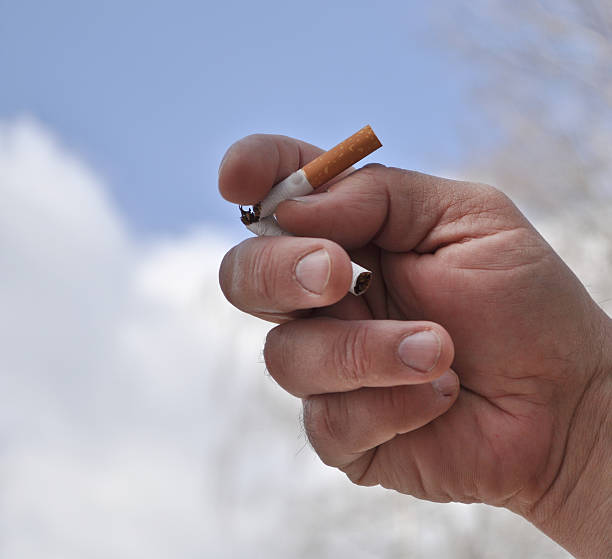cigarette: (256, 123, 382, 218), (243, 209, 373, 297)
